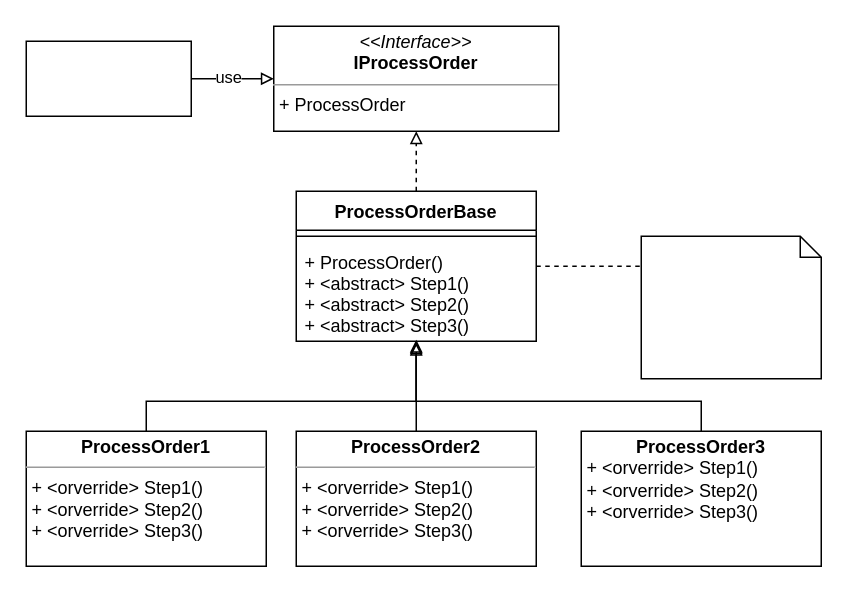
Some shapes in this 848 by 593 pixel diagram are drawn without their labels. Each missing label, with the centre of its shape:
"// Note ProcessOrder() { Step1(); Step2(); Step3(); }" belongs at pixel 730 307.
"Client" belongs at pixel 108 78.
